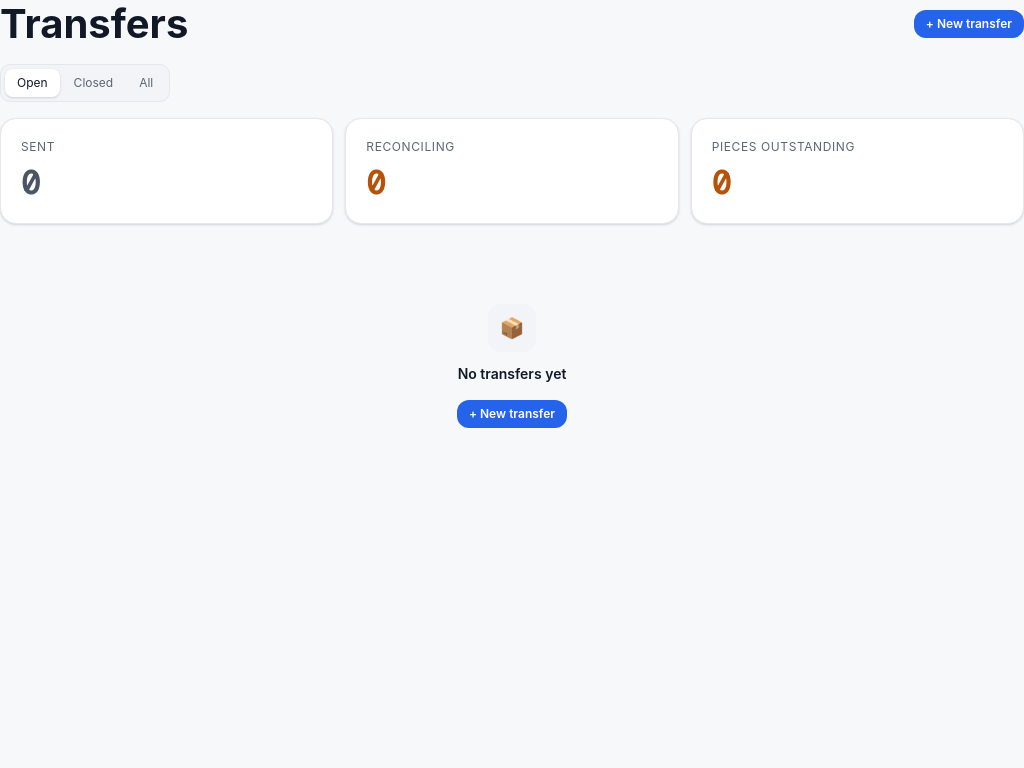
it: Transfers — "+ New transfer" chooser › nc2 — destinations but never relocated: chooser shows exactly two cards
Click the 1st button "+ New transfer" at coordinates (969, 24), box [914,10,1023,38]
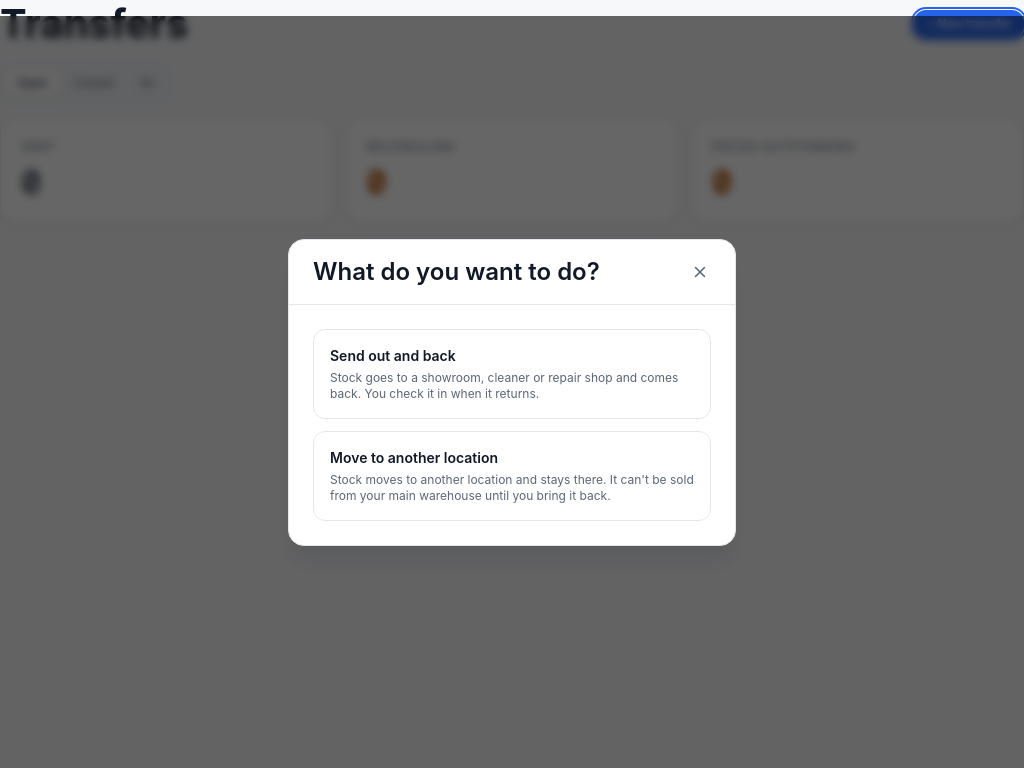
Expected: the heading "What do you want to do?" is shown, [313,256,600,288]
Expected: the button with test id "chooser-option-create" shows "Send out and back", [313,328,711,418]
Expected: the button with test id "chooser-option-relocate" shows "Move to another location", [313,430,711,520]
